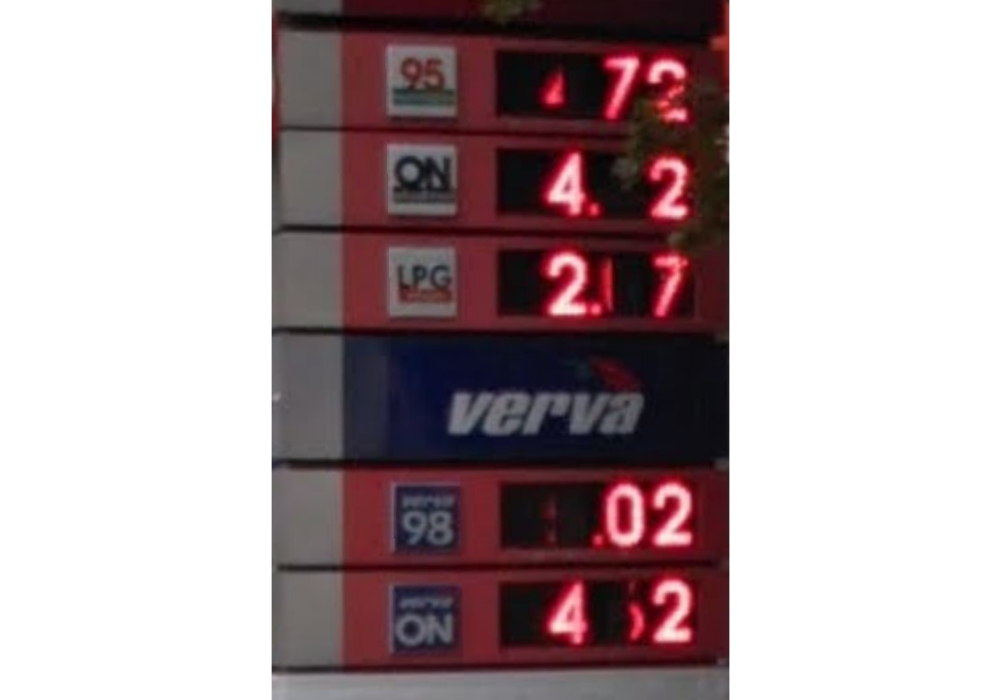LPG: (382, 243, 461, 320)
ON: (384, 578, 462, 655), (383, 139, 460, 216)
PB95: (382, 40, 458, 118)
PB98: (387, 476, 460, 553)
